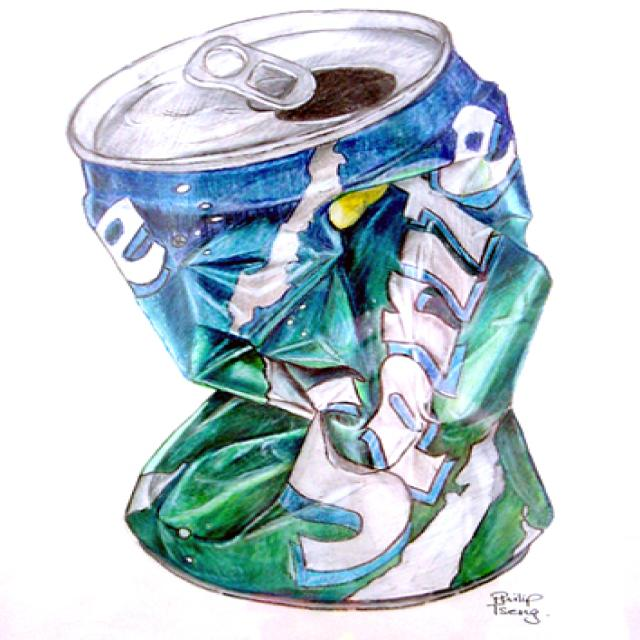aluminum_can: (69, 11, 553, 609)
